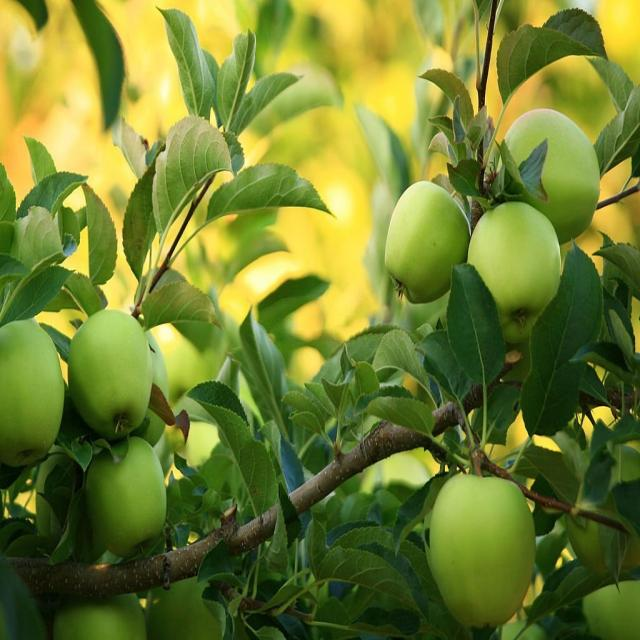Green Apple: (432, 467, 540, 624), (472, 199, 565, 345), (503, 112, 604, 234), (69, 314, 156, 432), (385, 179, 468, 298), (90, 433, 173, 552), (1, 322, 66, 465), (568, 501, 633, 578), (151, 582, 218, 640), (61, 597, 148, 640), (587, 572, 640, 640)
